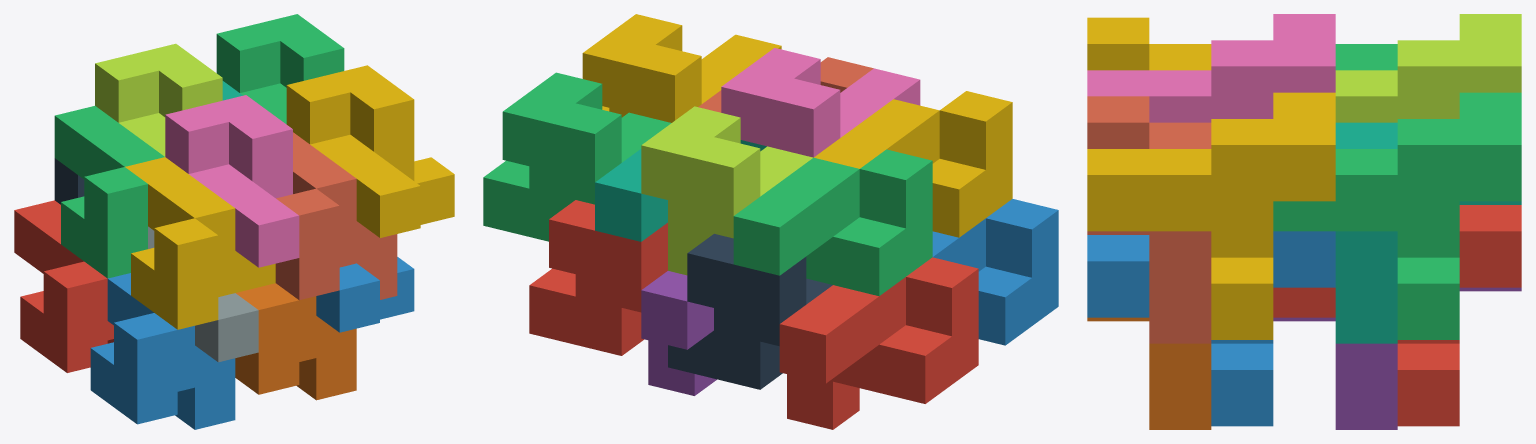
File: tiling.obj
The picture shows the model from 3 angles, left to right: view 1: azimuth 30°, elevation 25°; view 2: azimuth 150°, elevation 25°; view 3: azimuth 270°, elevation 25°; orthographic projection. The views are drawn at different scales.
Visible parts, largest first — view 1: copy_2_domain_8, copy_2_domain_4, copy_1_domain_4, copy_1_domain_2, copy_1_domain_3, copy_1_domain_8, copy_1_domain_1, copy_1_domain_6, copy_2_domain_3, copy_2_domain_7, copy_2_domain_6, copy_2_domain_2 (+1 smaller); view 2: copy_1_domain_1, copy_1_domain_3, copy_2_domain_7, copy_1_domain_4, copy_2_domain_5, copy_2_domain_3, copy_2_domain_1, copy_2_domain_4, copy_2_domain_8, copy_1_domain_2, copy_1_domain_5, copy_1_domain_7 (+1 smaller); view 3: copy_2_domain_8, copy_2_domain_7, copy_2_domain_4, copy_2_domain_6, copy_2_domain_3, copy_2_domain_5, copy_1_domain_8, copy_1_domain_7, copy_1_domain_5, copy_1_domain_6, copy_1_domain_4, copy_1_domain_3.
Part boxes in pixels (x1=…): copy_2_domain_8: x1=286, y1=65, x2=454, y2=237; copy_2_domain_4: x1=165, y1=95, x2=299, y2=267; copy_1_domain_4: x1=125, y1=157, x2=275, y2=329; copy_1_domain_2: x1=90, y1=273, x2=235, y2=429; copy_1_domain_3: x1=54, y1=106, x2=164, y2=278; copy_1_domain_8: x1=275, y1=132, x2=397, y2=300; copy_1_domain_1: x1=14, y1=200, x2=113, y2=372; copy_1_domain_6: x1=235, y1=283, x2=356, y2=400; copy_2_domain_3: x1=95, y1=43, x2=222, y2=156; copy_2_domain_7: x1=216, y1=14, x2=344, y2=124; copy_2_domain_6: x1=316, y1=257, x2=414, y2=332; copy_2_domain_2: x1=148, y1=226, x2=258, y2=362; copy_1_domain_1: x1=779, y1=257, x2=978, y2=429; copy_1_domain_3: x1=733, y1=149, x2=932, y2=295; copy_2_domain_7: x1=483, y1=72, x2=671, y2=241; copy_1_domain_4: x1=814, y1=91, x2=1012, y2=237; copy_2_domain_5: x1=529, y1=200, x2=667, y2=355; copy_2_domain_3: x1=641, y1=106, x2=812, y2=275; copy_2_domain_1: x1=668, y1=233, x2=832, y2=389; copy_2_domain_4: x1=721, y1=48, x2=920, y2=157; copy_2_domain_8: x1=582, y1=14, x2=781, y2=122; copy_1_domain_2: x1=932, y1=199, x2=1058, y2=345; copy_1_domain_5: x1=641, y1=271, x2=716, y2=395; copy_1_domain_7: x1=595, y1=140, x2=766, y2=241; copy_2_domain_8: x1=1087, y1=92, x2=1335, y2=339; copy_2_domain_7: x1=1273, y1=92, x2=1521, y2=339; copy_2_domain_4: x1=1087, y1=14, x2=1335, y2=122; copy_2_domain_6: x1=1087, y1=231, x2=1335, y2=426; copy_2_domain_3: x1=1335, y1=14, x2=1521, y2=122; copy_2_domain_5: x1=1273, y1=205, x2=1521, y2=426; copy_1_domain_8: x1=1087, y1=96, x2=1211, y2=343; copy_1_domain_7: x1=1335, y1=122, x2=1521, y2=343; copy_1_domain_5: x1=1273, y1=287, x2=1521, y2=429; copy_1_domain_6: x1=1087, y1=317, x2=1211, y2=429; copy_1_domain_4: x1=1087, y1=17, x2=1211, y2=70; copy_1_domain_3: x1=1335, y1=44, x2=1397, y2=70.
Size of the model in its own units: 9 by 6 by 7.
